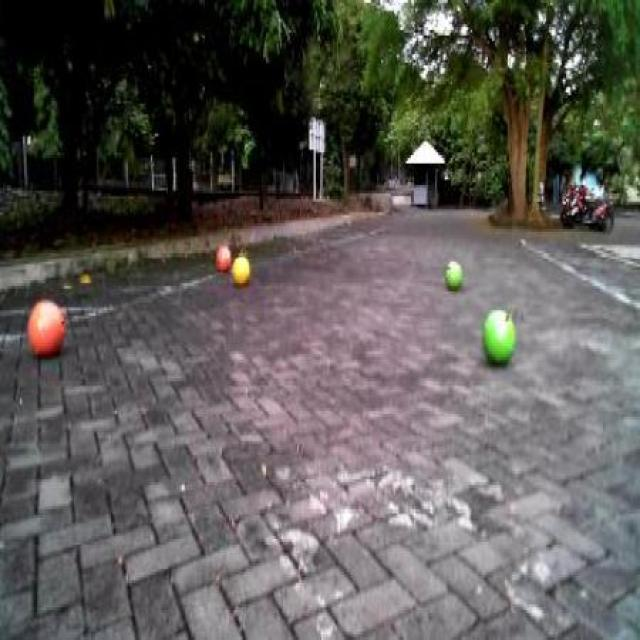buoy: (28, 291, 67, 365), (480, 304, 517, 369), (230, 250, 253, 292), (442, 256, 463, 292), (214, 237, 233, 272)
